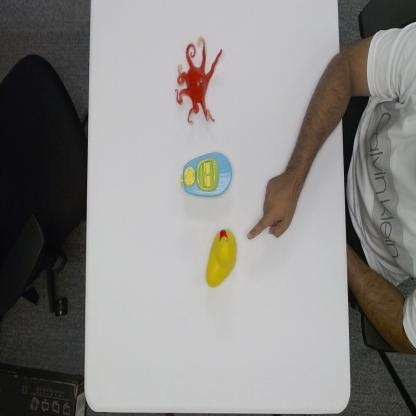Arm: (296, 46, 344, 206)
Boat: (179, 148, 233, 198)
Duck: (204, 224, 238, 288)
Hand: (245, 162, 294, 247)
Octopus: (174, 35, 224, 127)
